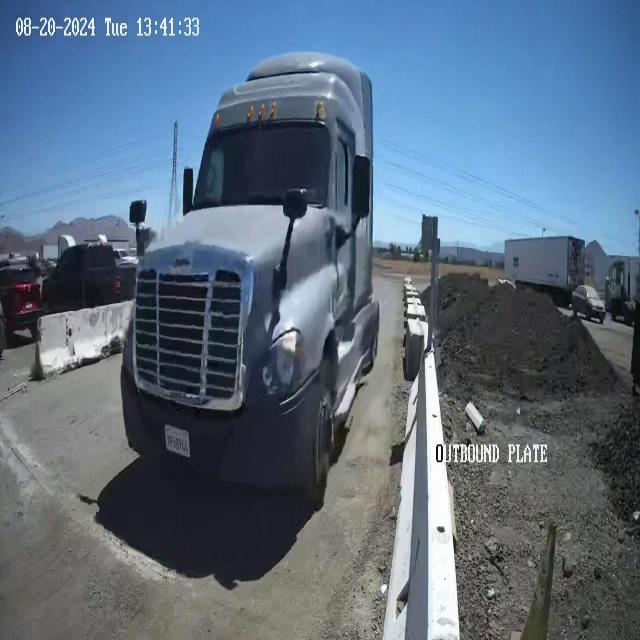TRUCK_OUT: (120, 50, 380, 497)
